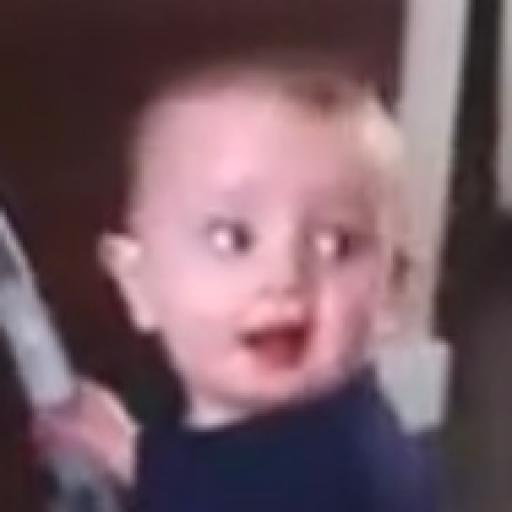Autism: (106, 65, 478, 450)
